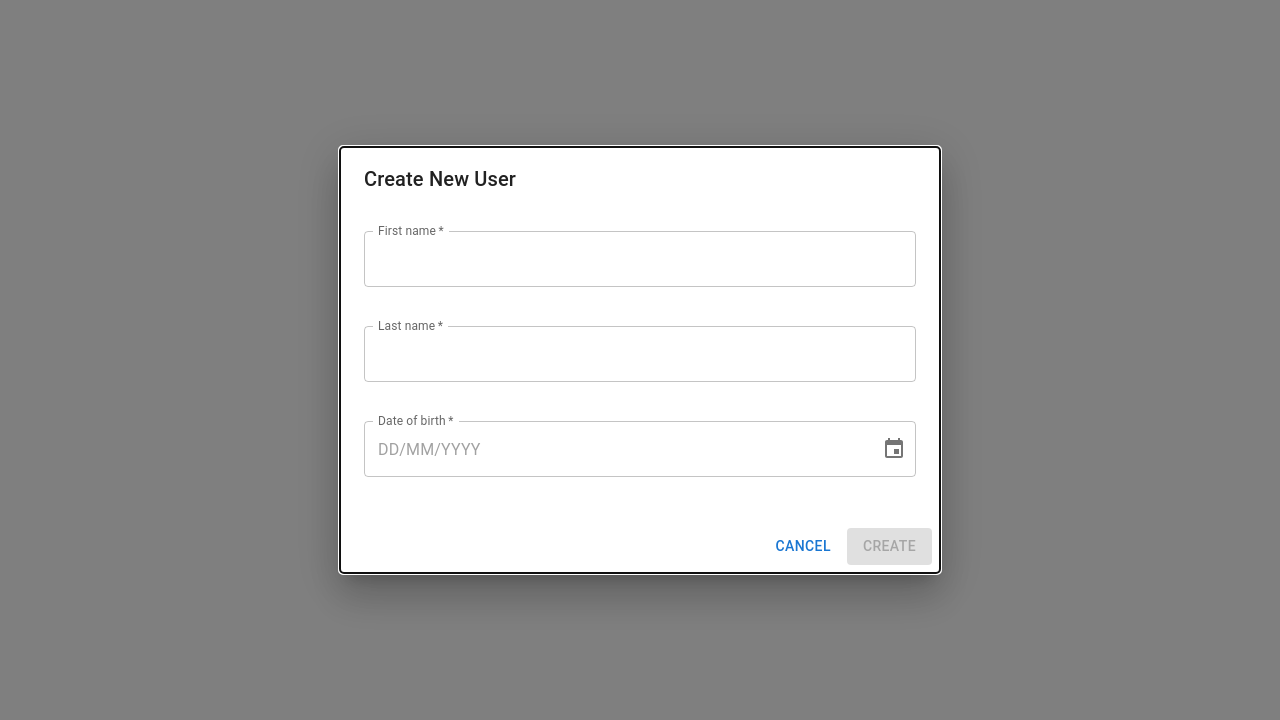
Scenario: CreateUserDialog › valid input enables the button
The width and height of the screenshot is (1280, 720).
Expected: the button "Create" is disabled, [847, 528, 932, 565]
In the field labelled "First name *": [640, 259] box [364, 231, 916, 287], type "John"
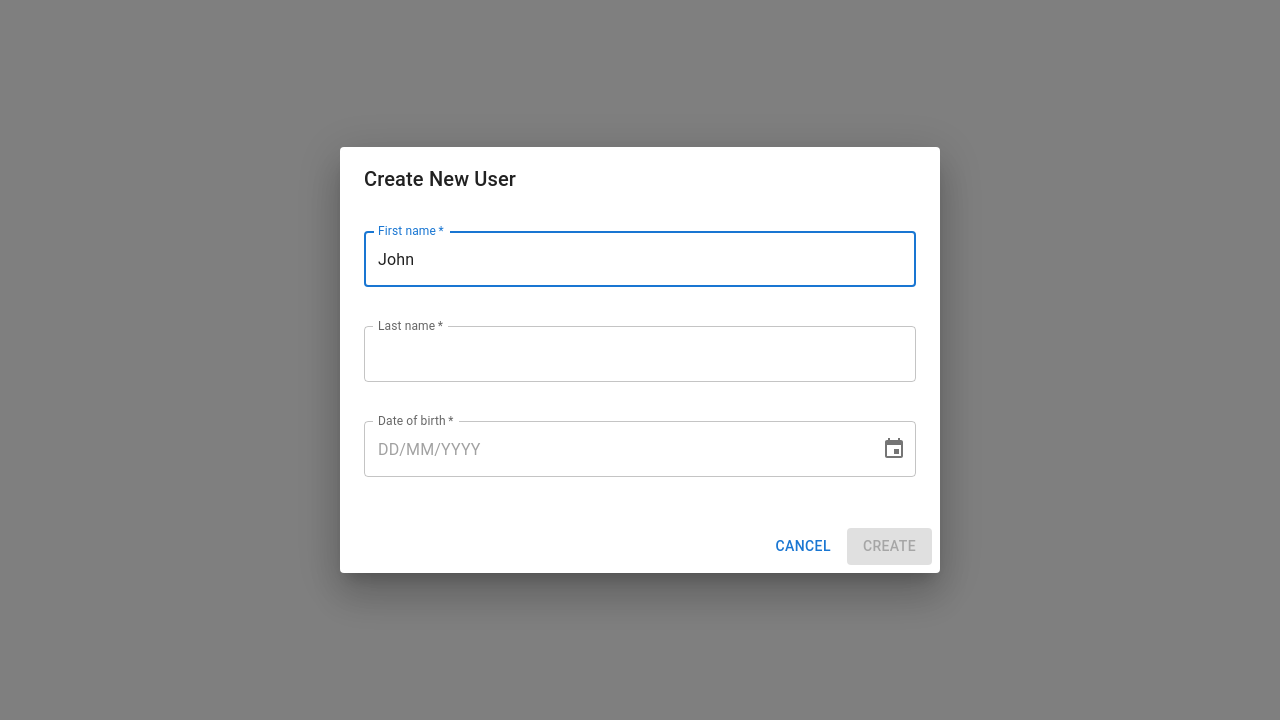
In the field labelled "Last name *": [640, 354] box [364, 326, 916, 382], type "Doe"
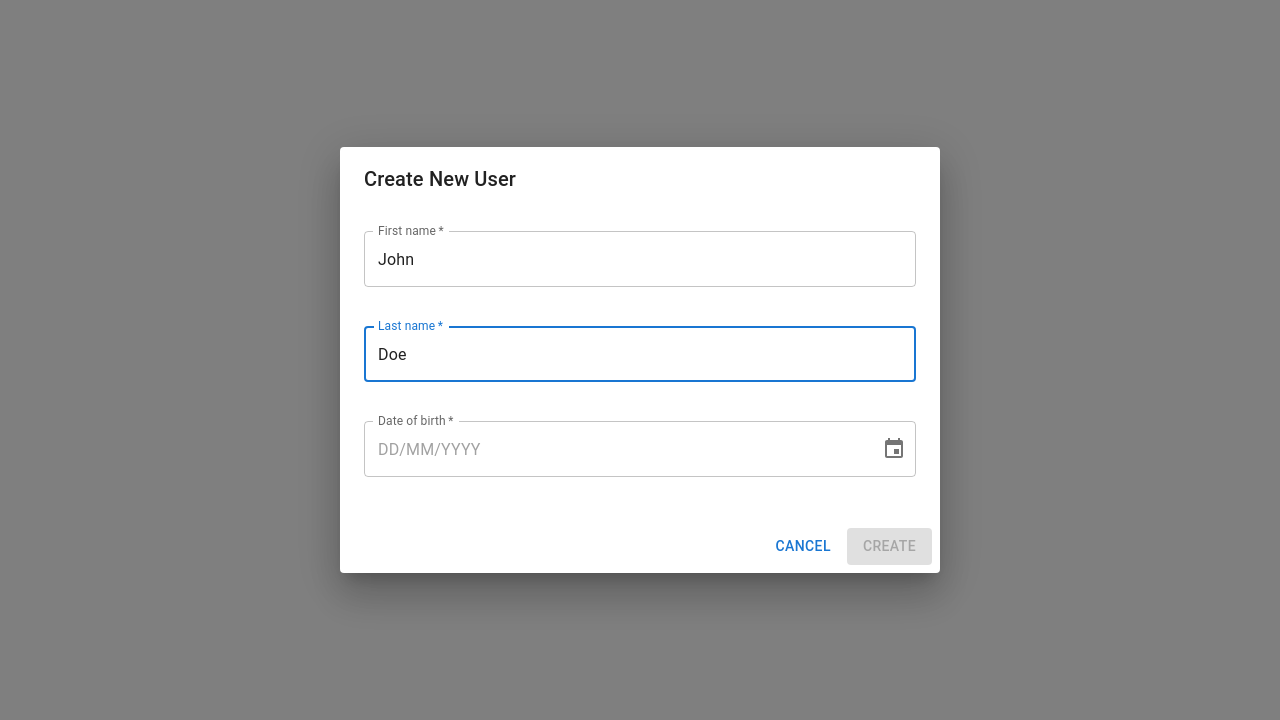
In the element named "date of birth": [640, 449] box [364, 421, 916, 477], type "01/02/1993"
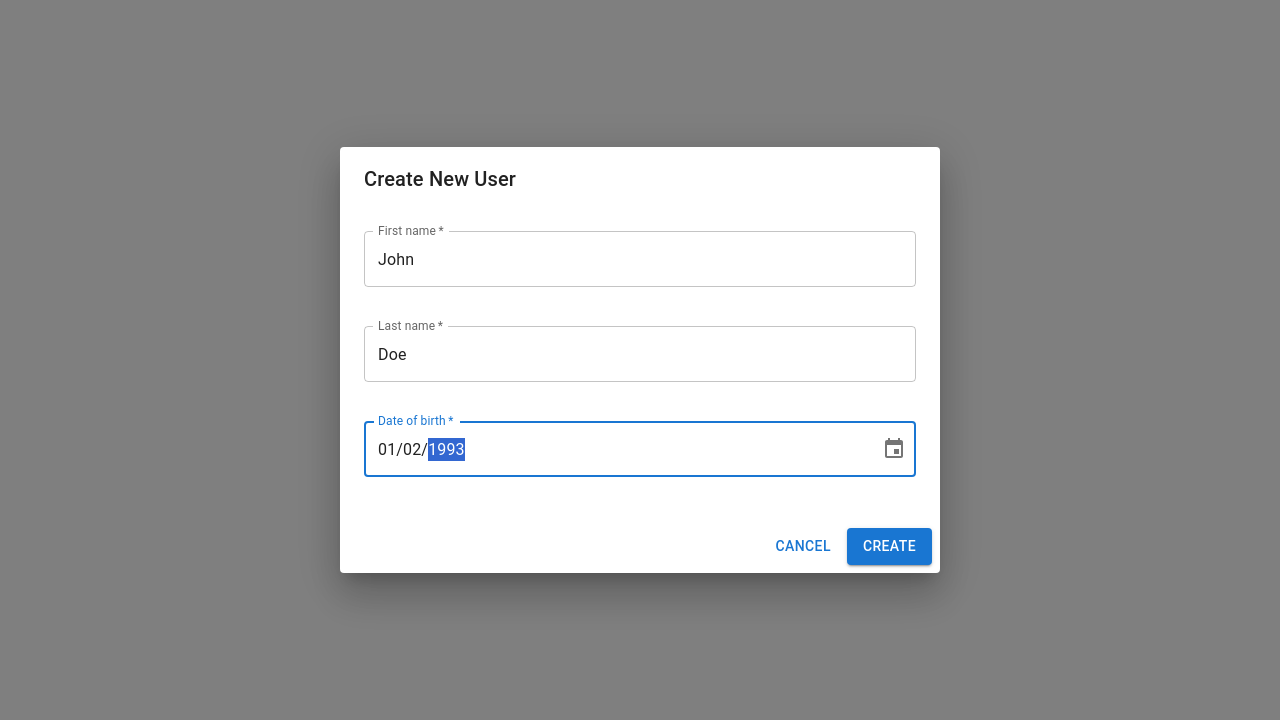
Now the button "Create" is enabled, box [847, 528, 932, 565]
